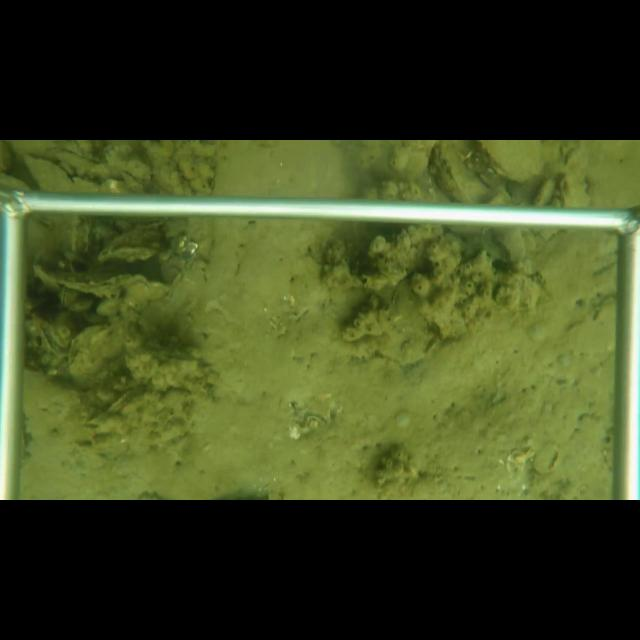Oyster-Closed: (358, 274, 435, 365), (34, 263, 173, 307), (431, 142, 496, 202), (21, 152, 74, 192), (120, 168, 146, 193)
